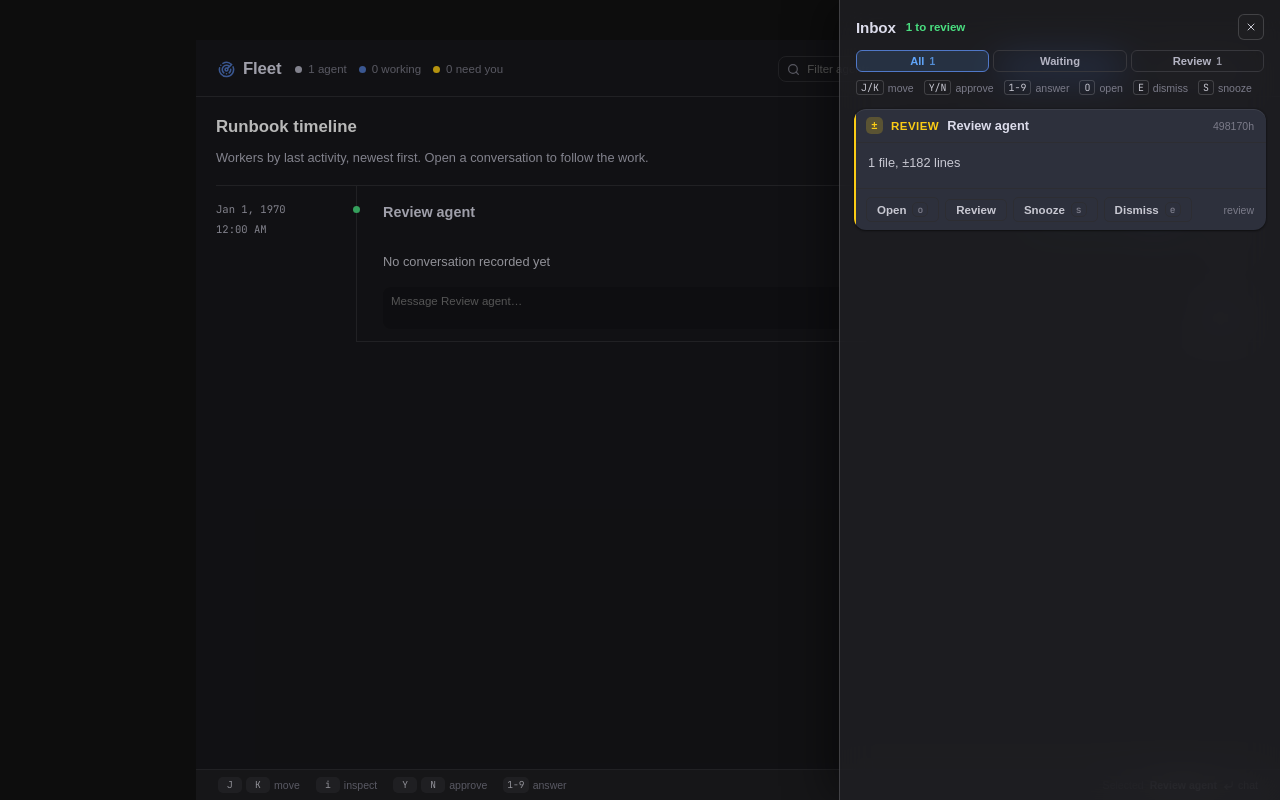
it: Mission Control surfaces › reviewing a large-diff card opens Review and clears the card
Expected: the text "1 file, ±182 lines" is shown, [868,155,960,170]
Click the button "Review". click: (976, 210)
box: [945,199,1007,221]
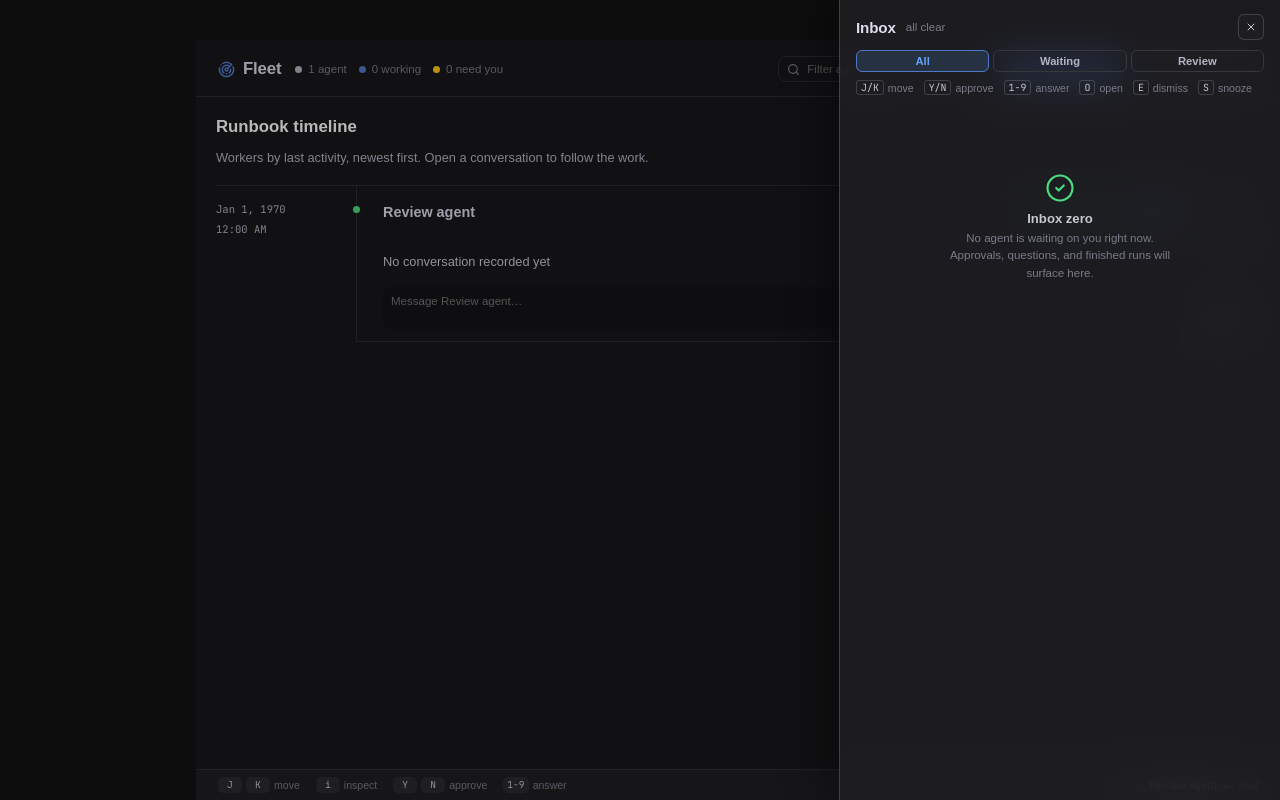
Now the text "1 file, ±182 lines" is gone
